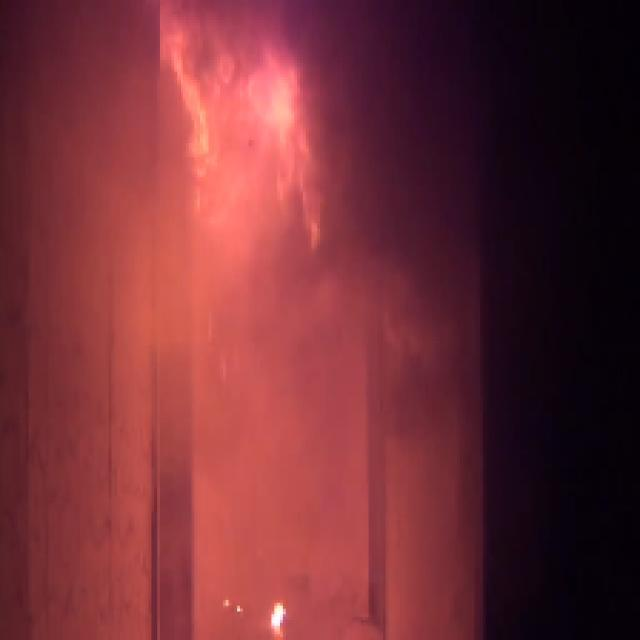Fire: (171, 66, 300, 218), (266, 597, 292, 632)
Smoke: (323, 17, 471, 414), (166, 8, 314, 58)
